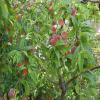Peach leaf: (81, 73, 96, 90), (71, 45, 81, 68), (78, 51, 84, 75), (71, 15, 79, 31), (66, 64, 73, 79), (7, 49, 18, 58), (30, 69, 37, 83), (57, 46, 68, 54), (19, 37, 25, 51), (43, 59, 50, 71), (52, 62, 57, 78), (74, 82, 79, 97), (16, 20, 22, 32), (55, 49, 60, 63), (61, 1, 72, 7), (18, 65, 25, 74), (12, 53, 17, 65), (26, 82, 30, 97), (79, 7, 86, 15), (58, 39, 66, 46), (50, 53, 54, 67), (22, 46, 33, 51), (63, 7, 72, 13), (17, 52, 21, 65), (55, 39, 59, 48), (26, 27, 32, 33), (56, 8, 61, 15), (32, 40, 35, 51), (34, 34, 42, 38), (19, 79, 25, 84), (34, 25, 37, 33), (5, 22, 9, 28)
